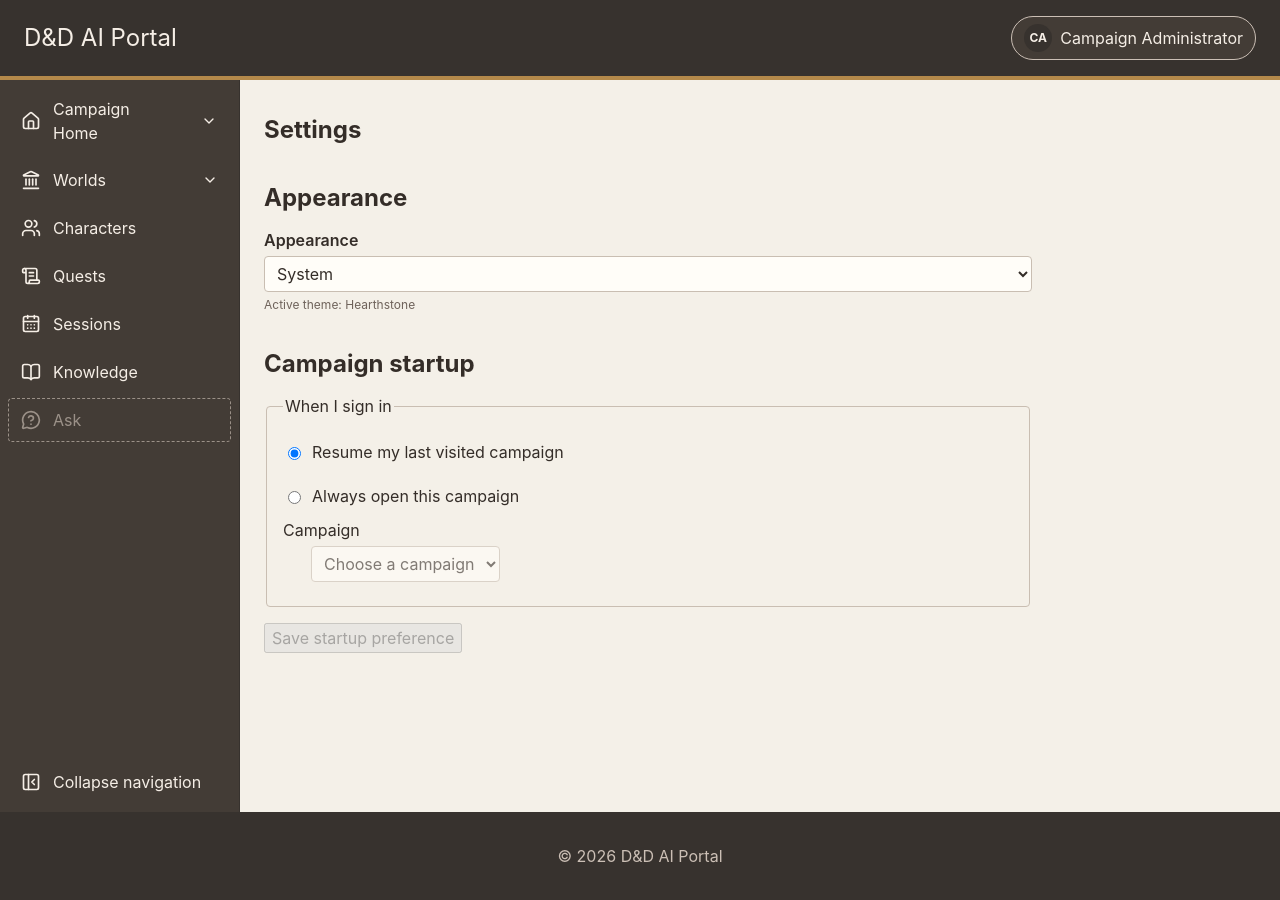
saved startup preference reaches the shared session › respects a campaign list that changed around the save
Expected: the heading "Settings" is shown, [264,115,361,144]
Click the radio button labelled "Always open this campaign".
click(294, 498)  # box [288,491,301,504]
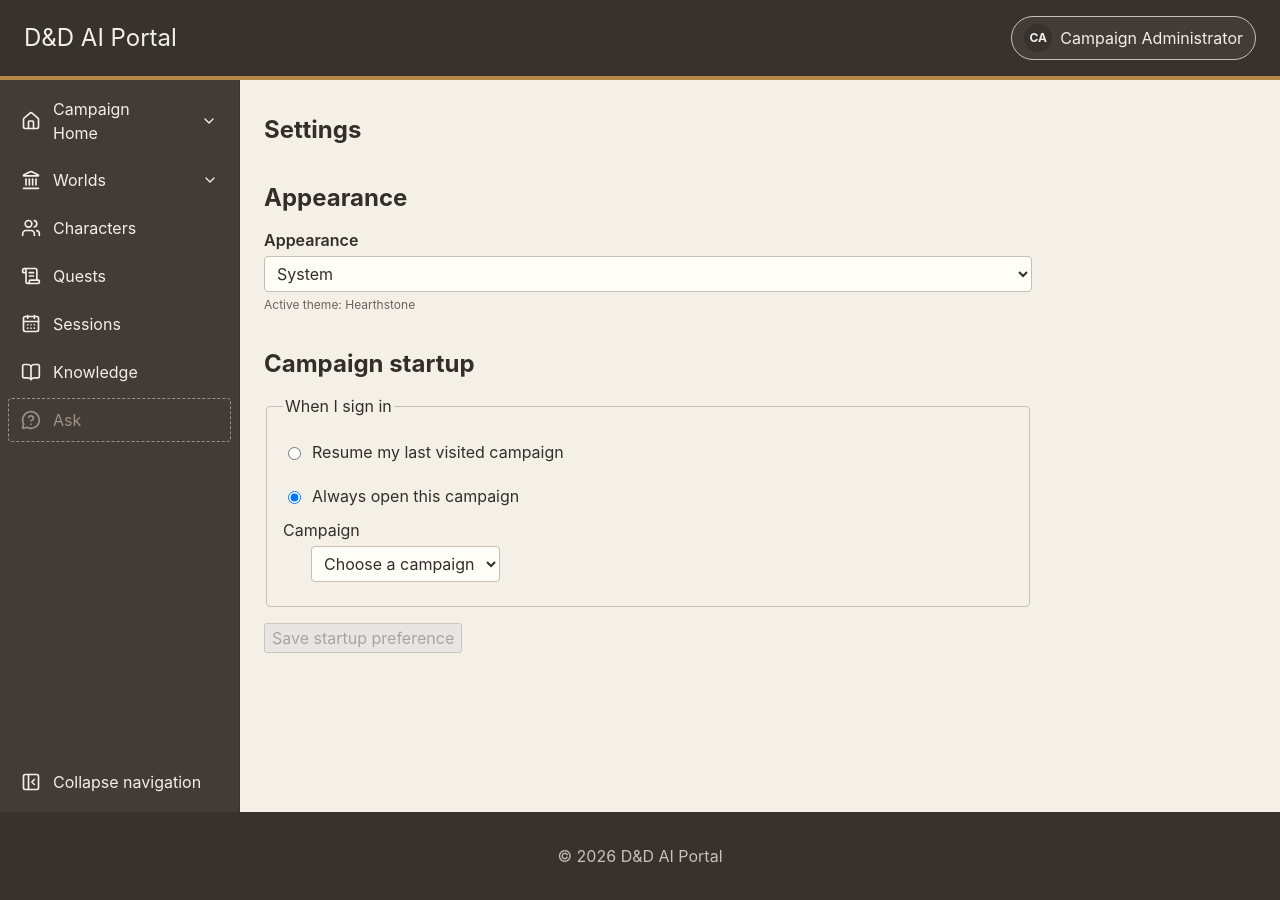
Select "Alpha" in the dropdown labelled "Campaign" at (406, 564), box [311,546,500,582]
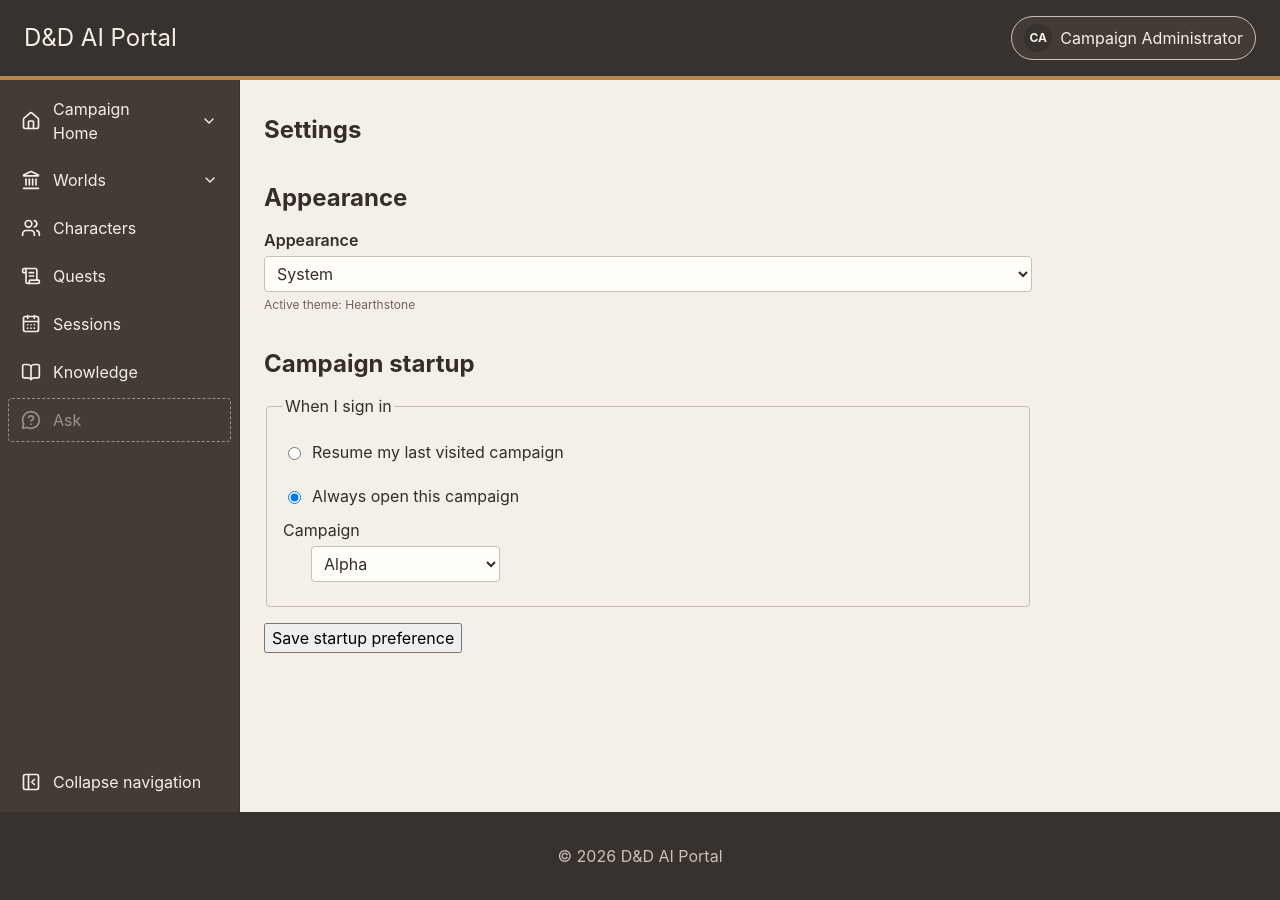
Click the button "Save startup preference".
click(363, 638)  # box [264,623,462,653]
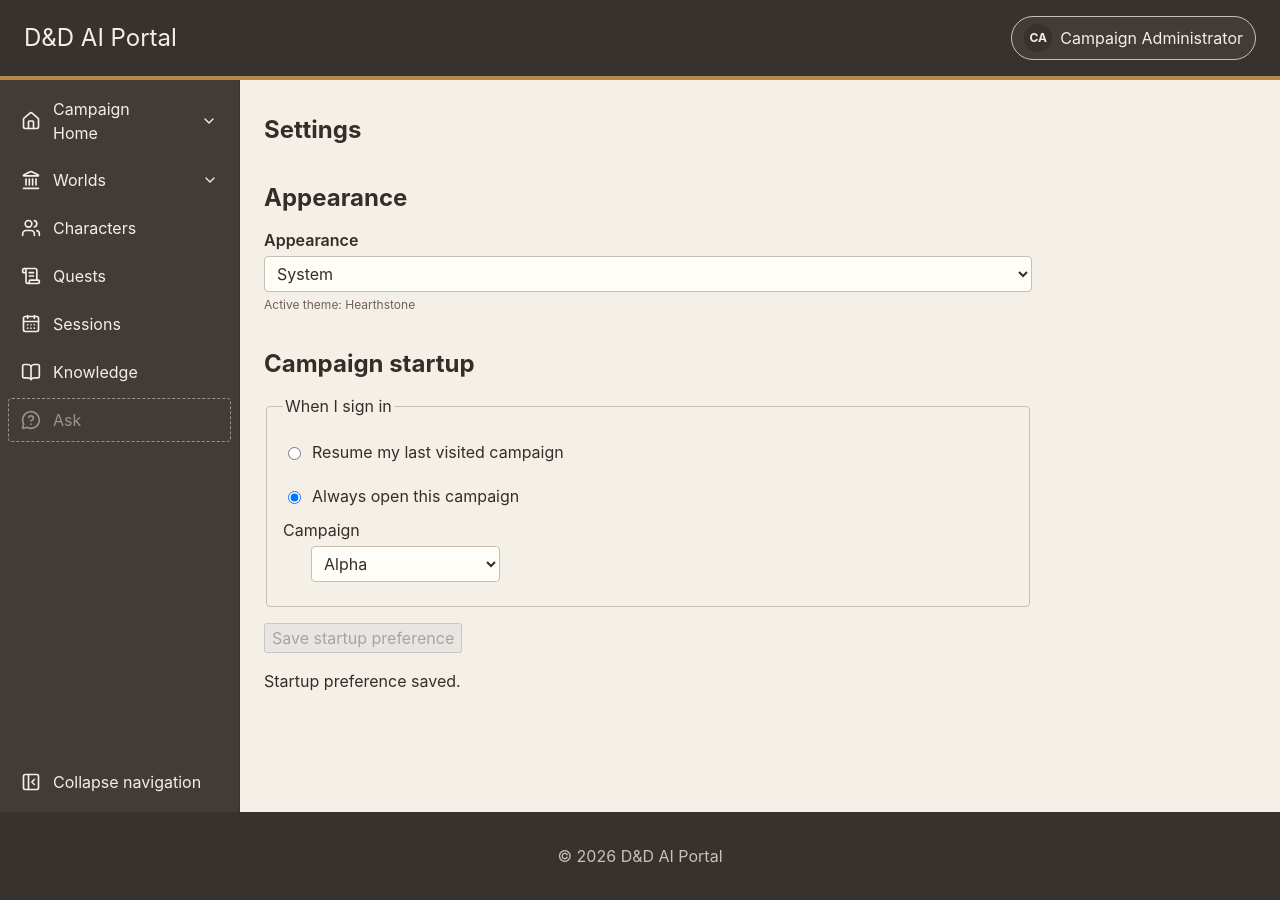
Expected: the message reads "Startup preference saved.", [264,671,461,691]
